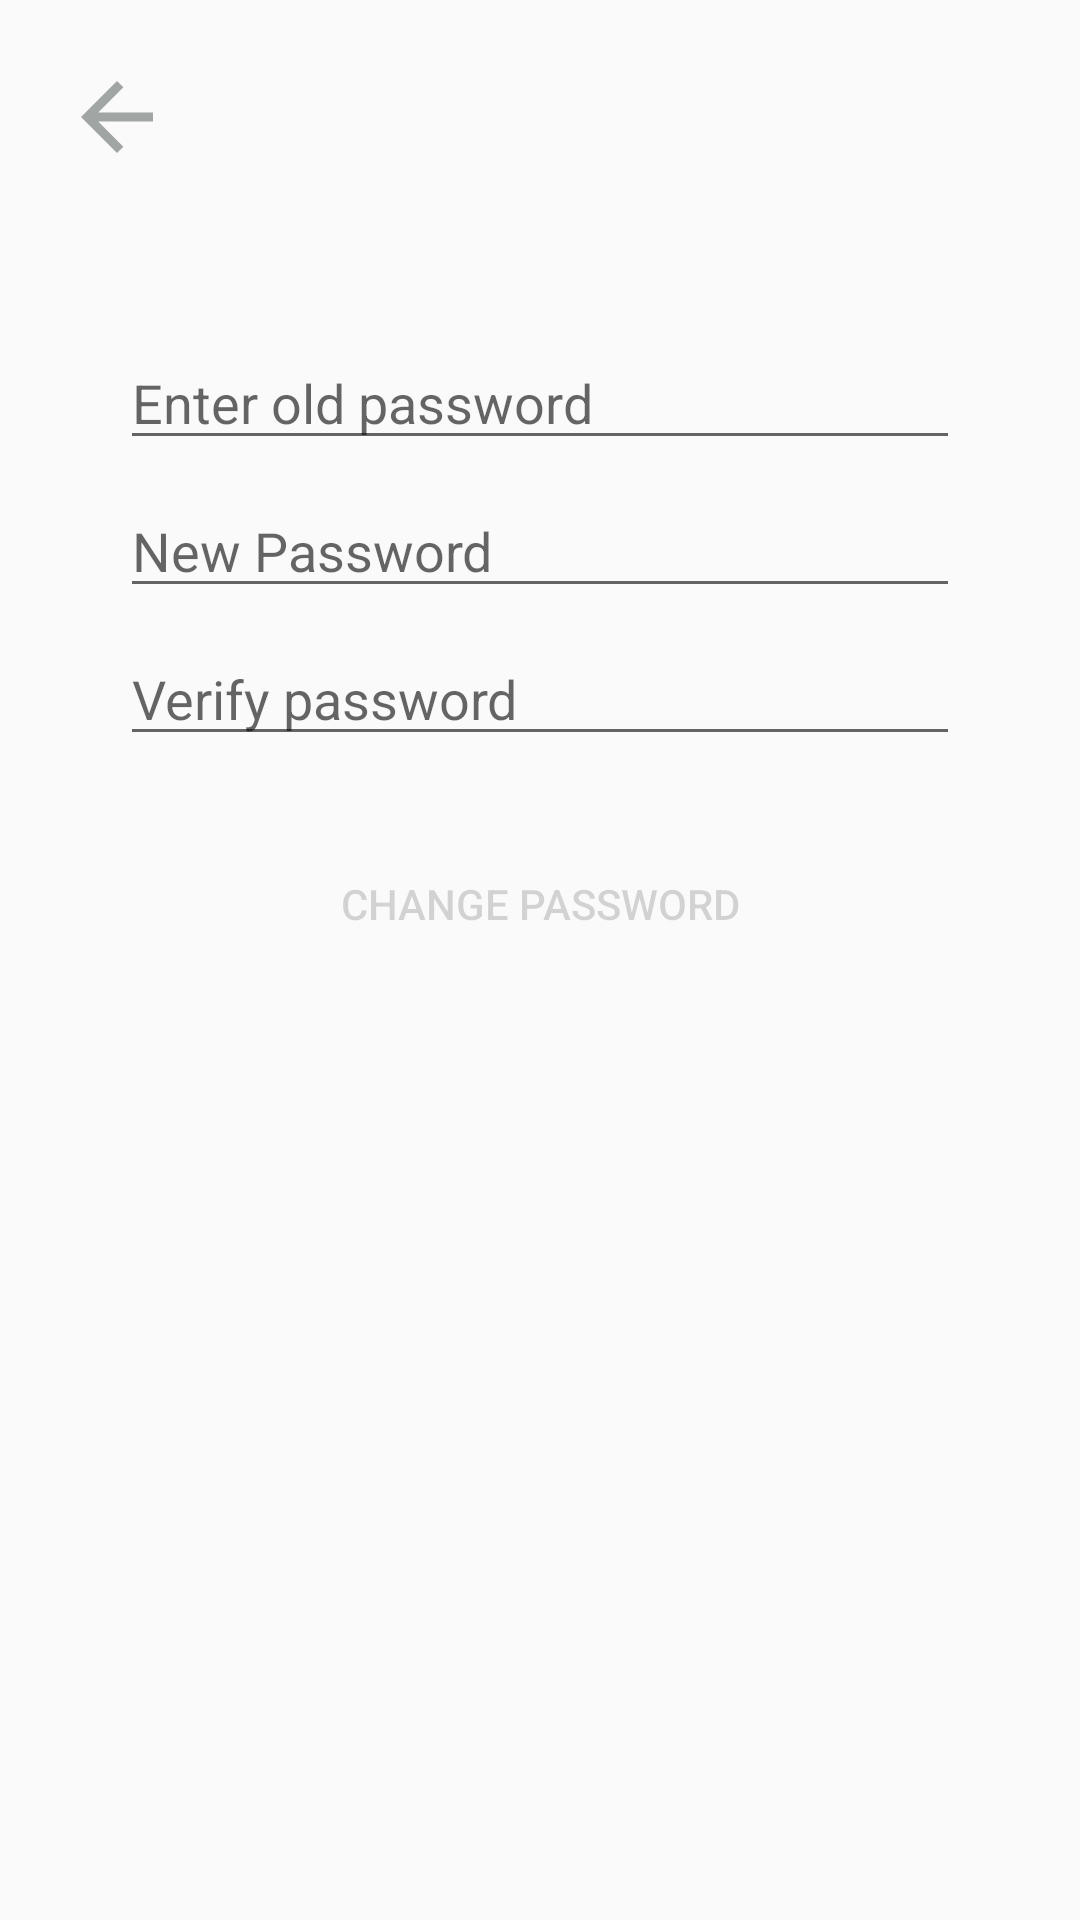

Named icons in this screenshot (1080*1920) and their centers, (x=x, y=y):
arrow back: (x=117, y=117)
